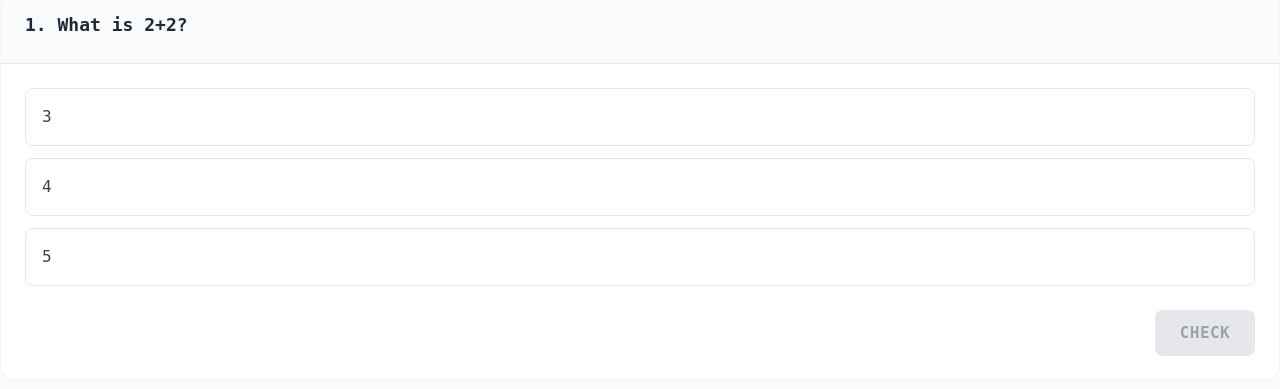
Scenario: Quiz Component › should handle correct answer selection
Click the button "4". click: (47, 186)
box: [25,158,1255,216]
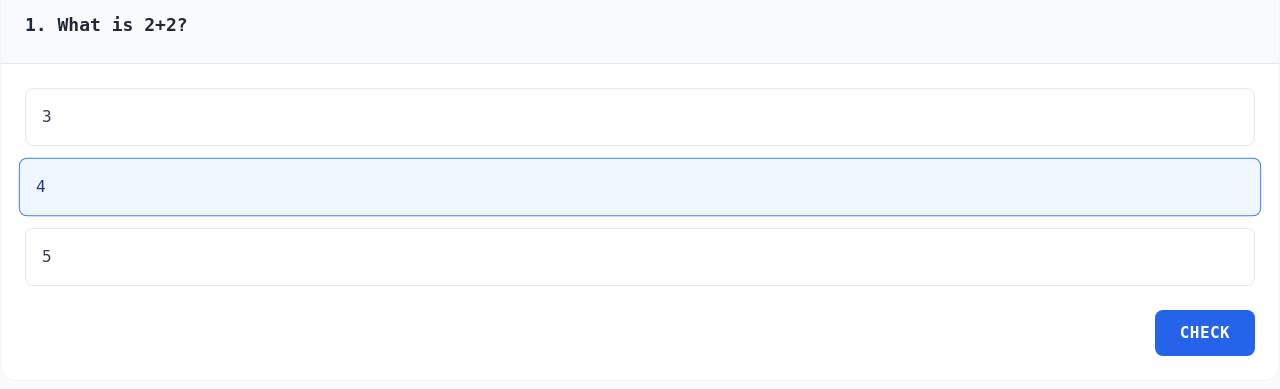
Click the button "Check". click: (1205, 333)
box: [1155,310,1255,356]
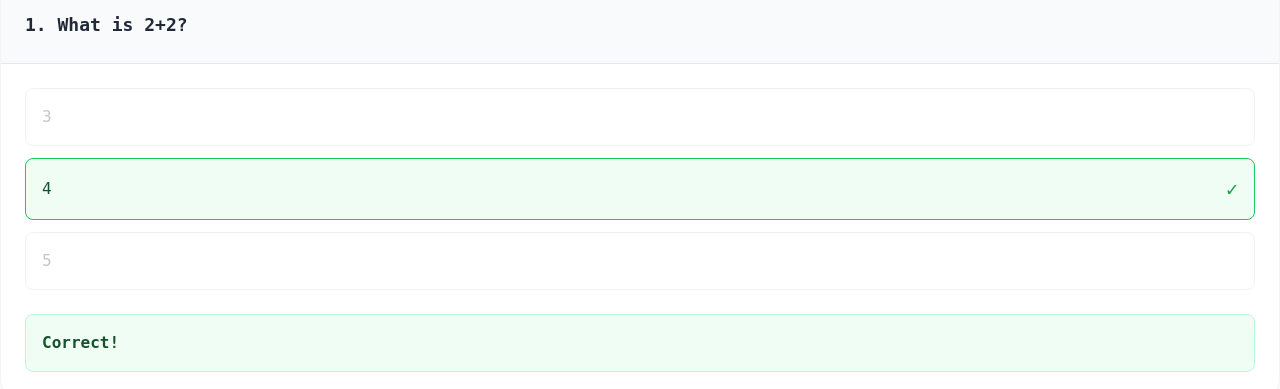
Now the text "Correct!" is shown, box [42,333,119,352]
Now the text "✓" is shown, box [1226,175,1238,203]
